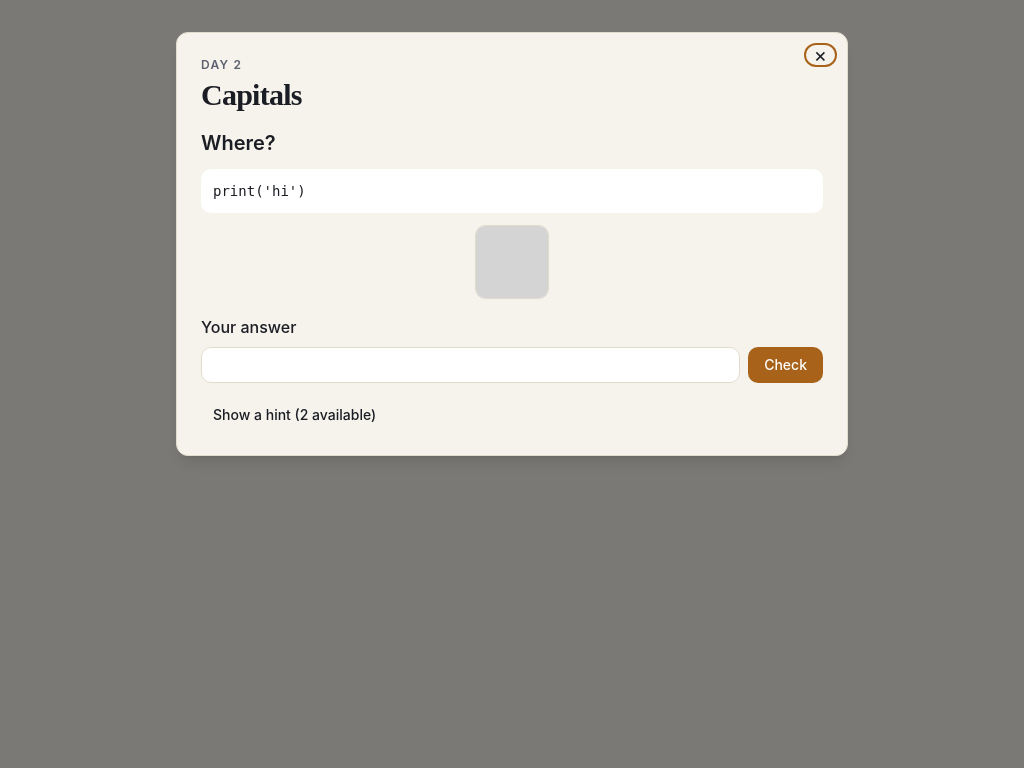
Scenario: door panel › explains normalization on a wrong answer and counts the attempt
Type "London!" into the field labelled "Your answer" at {"x": 471, "y": 365}, box [201, 347, 740, 383]
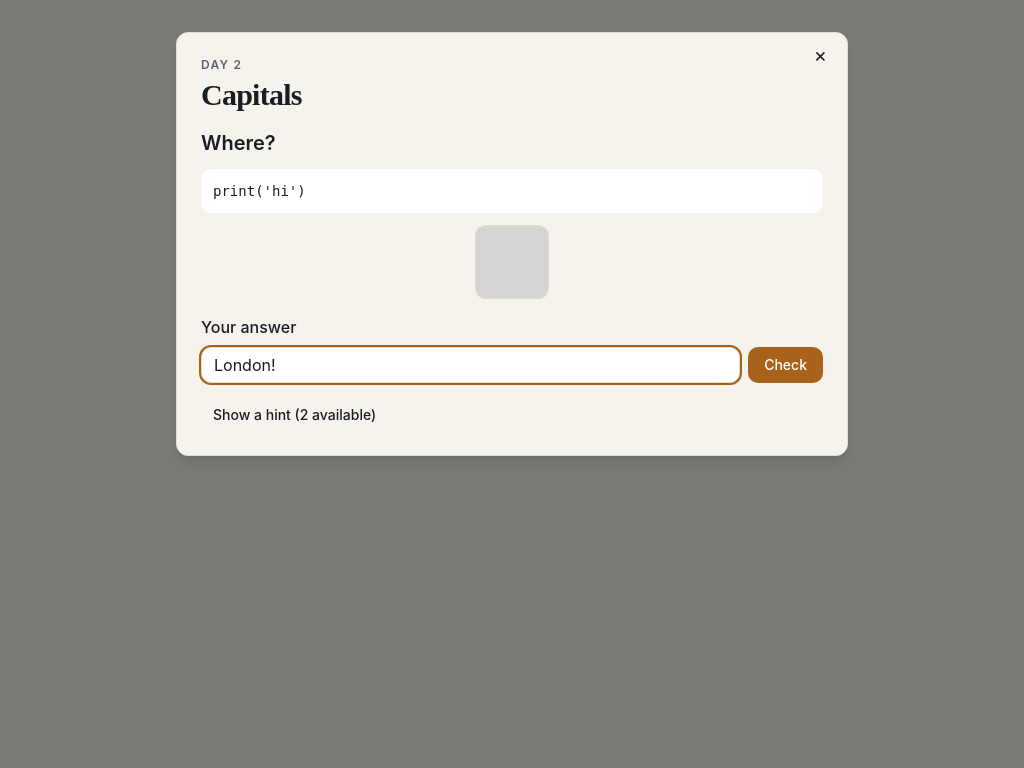
Click the button "Check" at {"x": 786, "y": 365}, box [748, 347, 823, 383]
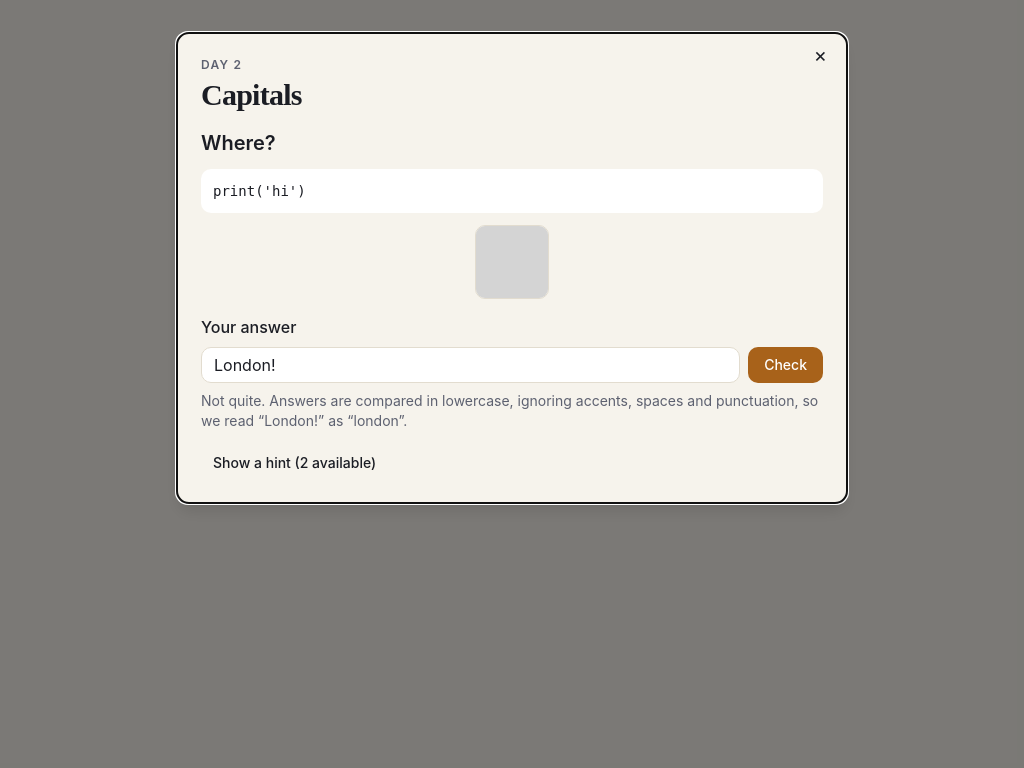
Expected: the message shows "we read “London!” as “london”", [201, 391, 823, 431]
